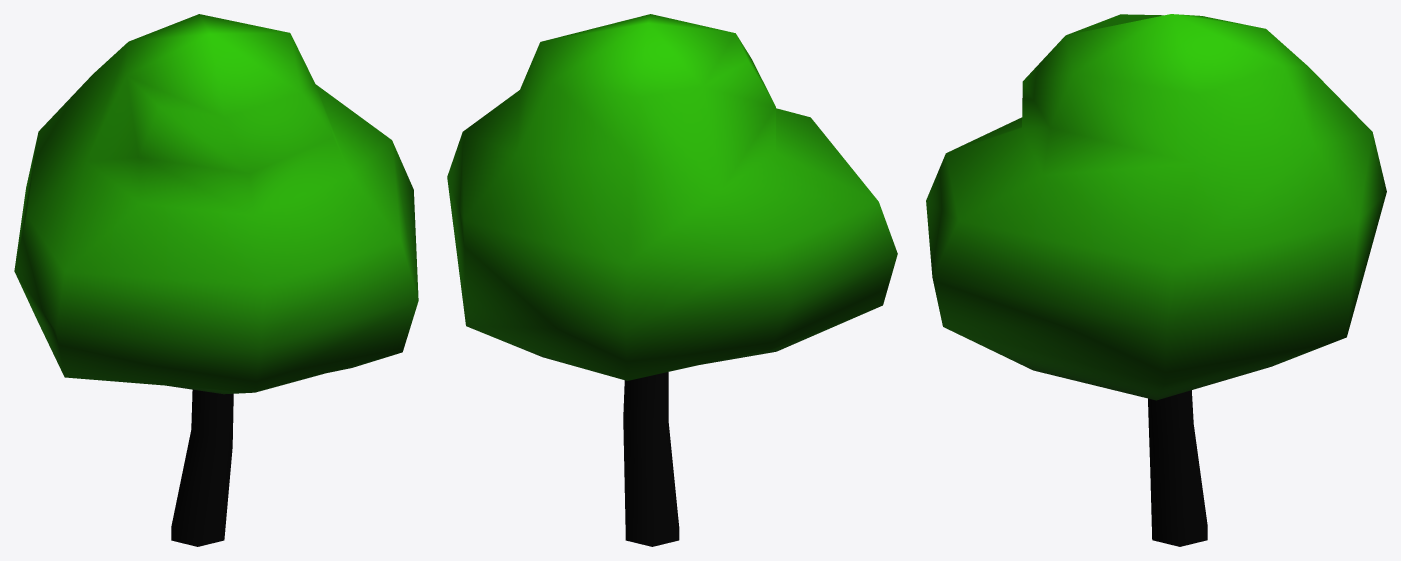
File: Universal_Plant_Tree_04_Mod.fbx
3 renders of one model, left to right at view 1: azimuth 30°, elevation 25°; view 2: azimuth 150°, elevation 25°; view 3: azimuth 270°, elevation 25°, orthographic. The views are drawn at different scales.
Parts seen in each view (by area): view 1: Universal_Plant_Tree_04_Mod; view 2: Universal_Plant_Tree_04_Mod; view 3: Universal_Plant_Tree_04_Mod.
Part boxes in pixels (<box>): Universal_Plant_Tree_04_Mod: <box>14,14,418,546</box>; Universal_Plant_Tree_04_Mod: <box>447,14,897,546</box>; Universal_Plant_Tree_04_Mod: <box>926,14,1386,546</box>.
Size of the model in its own units: 309 by 368 by 293.
